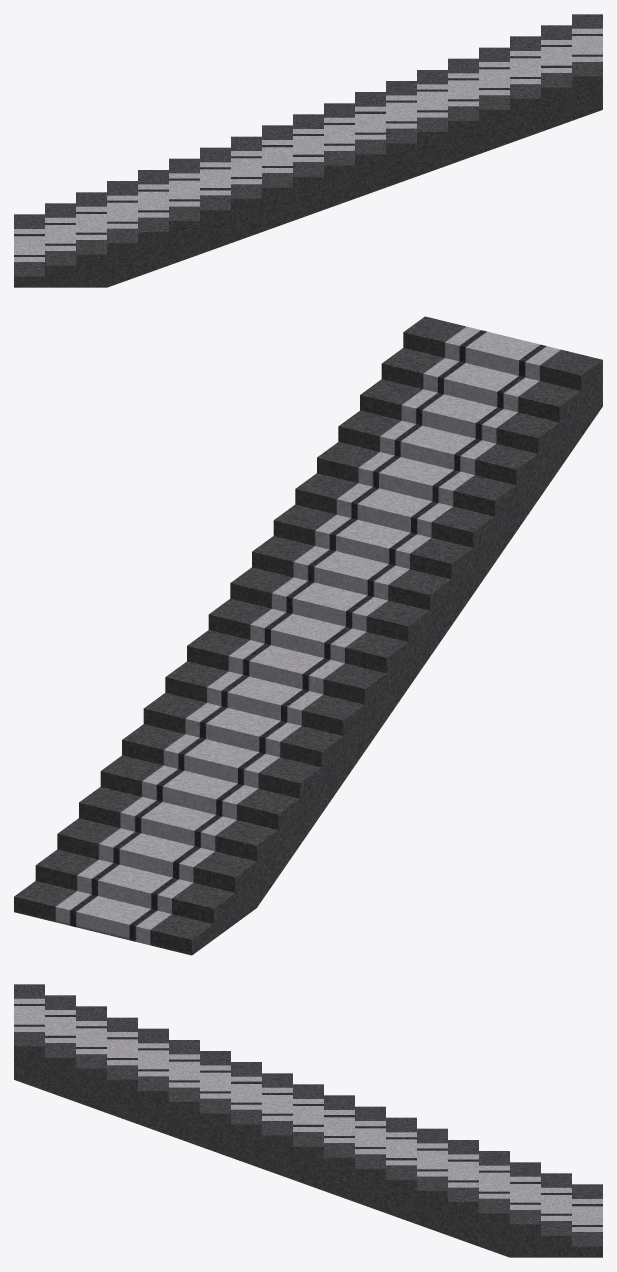
Rendered from Staircase_Straight.fbx.
3 renders of one model, top to bottom at view 1: azimuth 90°, elevation 25°; view 2: azimuth 150°, elevation 25°; view 3: azimuth 270°, elevation 25°, orthographic. The views are drawn at different scales.
Parts seen in each view (by area): view 1: Box001; view 2: Box001; view 3: Box001.
Part boxes in pixels (left/top/right/bottom): Box001: left=14, top=14, right=602, bottom=287; Box001: left=14, top=316, right=602, bottom=955; Box001: left=14, top=984, right=602, bottom=1257.
Size of the model in its own units: 3 by 4.75 by 12.
